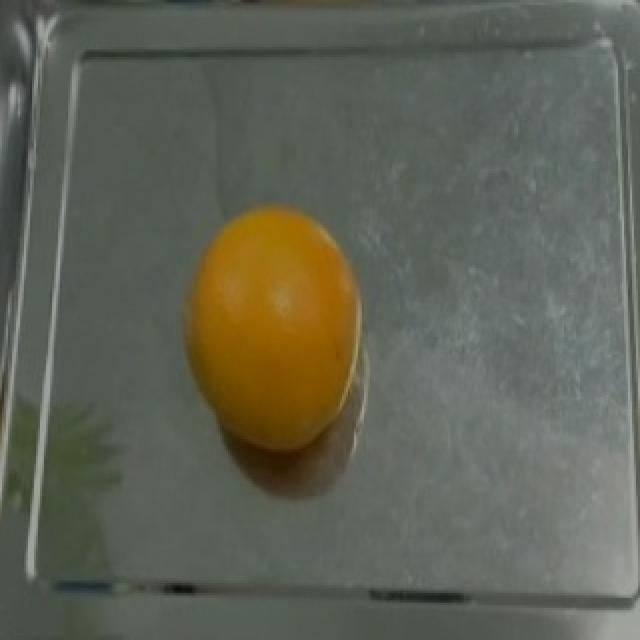Fruit: (170, 206, 374, 461)
